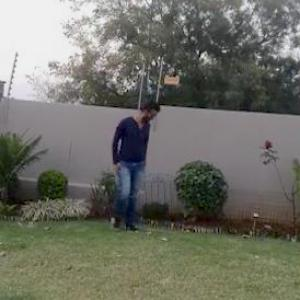follow: (108, 96, 154, 236)
